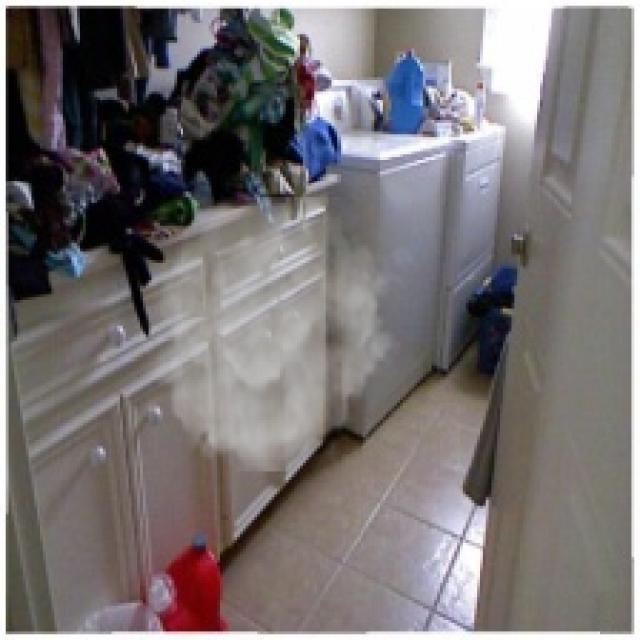Smoke: (140, 197, 403, 472)
